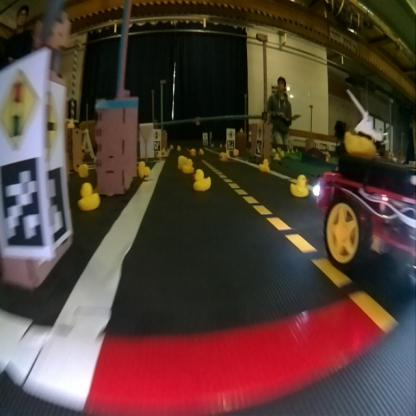duckie: (75, 176, 102, 218), (289, 170, 309, 208), (191, 163, 211, 195), (254, 152, 271, 177)
duckiebot: (312, 155, 416, 281)
